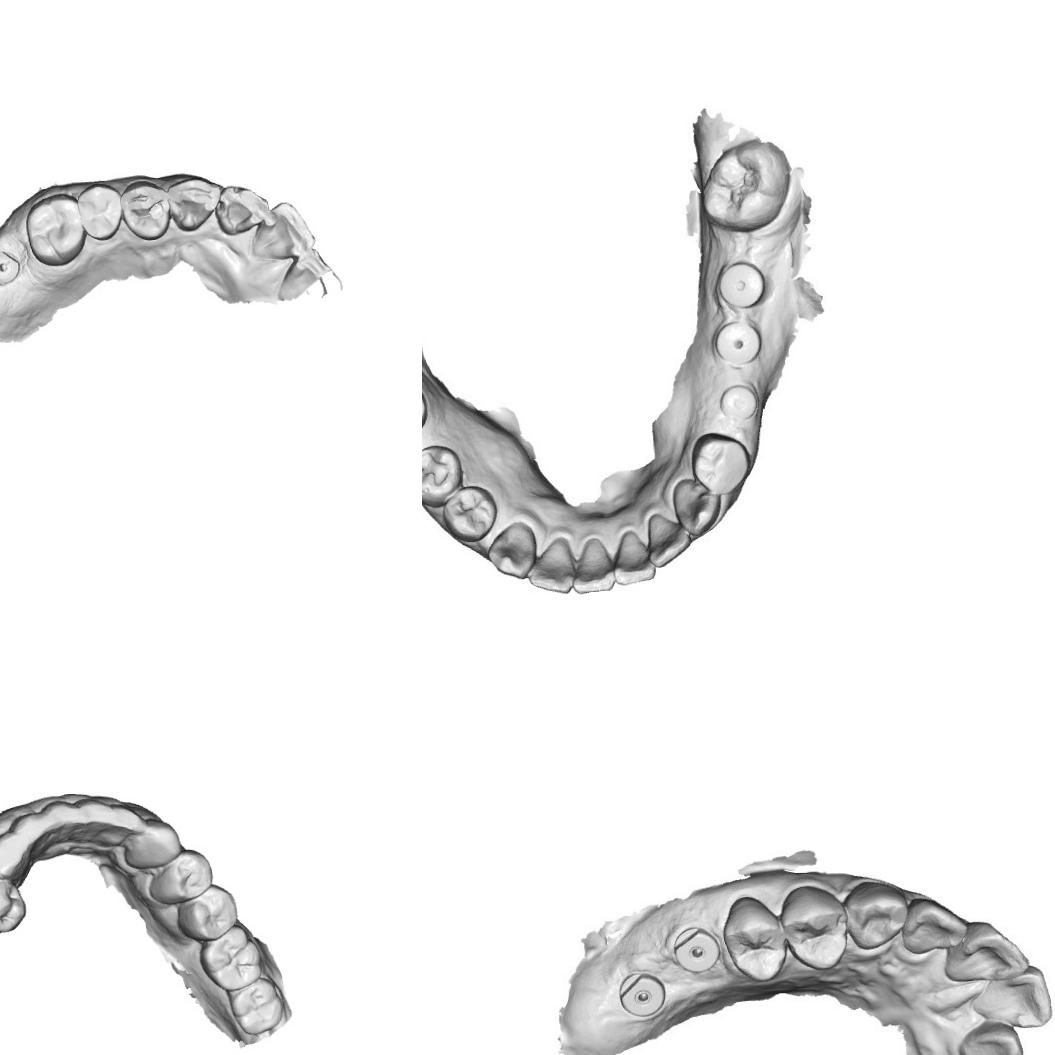canine: (844, 880, 912, 954), (671, 476, 724, 538), (166, 176, 222, 233), (488, 522, 534, 579), (130, 818, 182, 864), (0, 830, 30, 883)
implant: (611, 964, 668, 1022), (716, 260, 773, 312), (712, 314, 764, 370), (674, 926, 718, 977), (714, 380, 764, 424)
implant_minus: (0, 247, 22, 289)
incisor: (939, 921, 1034, 985), (968, 968, 1049, 1028), (901, 892, 968, 962), (250, 200, 316, 260), (274, 247, 334, 304), (214, 183, 271, 237), (646, 510, 693, 568), (528, 540, 576, 596), (570, 540, 616, 595), (613, 530, 656, 587), (111, 799, 144, 845), (78, 800, 112, 838), (42, 799, 79, 832), (14, 816, 46, 842)
molar: (696, 140, 797, 236), (23, 192, 86, 268), (198, 924, 264, 992), (226, 978, 286, 1036)
premolar: (720, 894, 794, 982), (786, 886, 846, 974), (689, 431, 749, 492), (440, 483, 496, 544), (121, 178, 172, 242), (182, 883, 238, 941), (154, 850, 214, 900), (76, 182, 124, 242), (422, 441, 462, 508), (0, 879, 27, 933)
